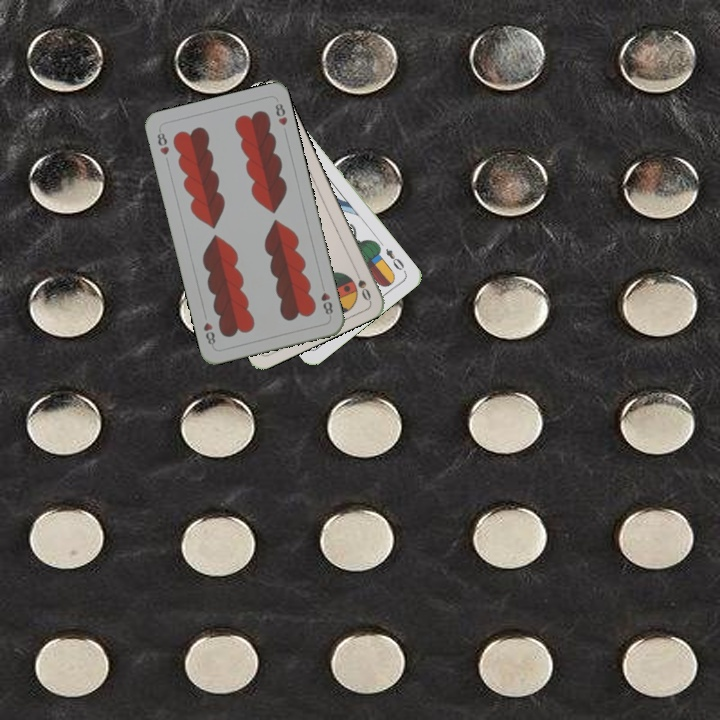EO: (381, 244, 407, 273)
H8: (317, 280, 335, 317), (153, 126, 172, 158)
SO: (350, 264, 373, 303)
